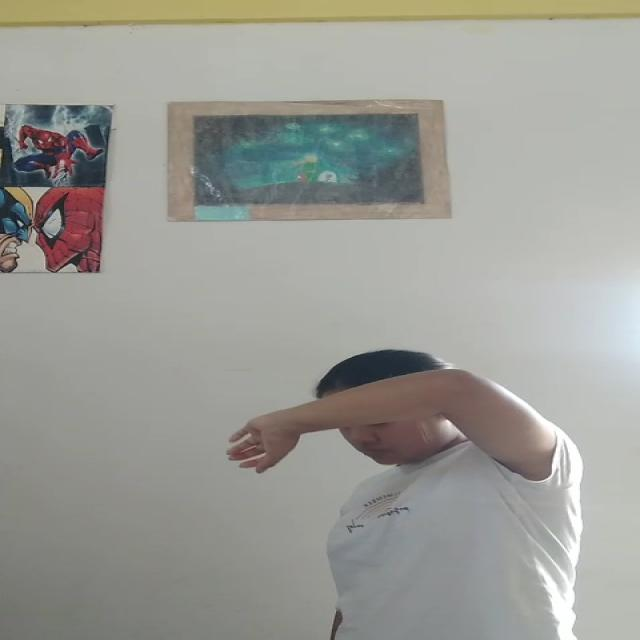7_mano_rostro: (318, 369, 505, 435)
